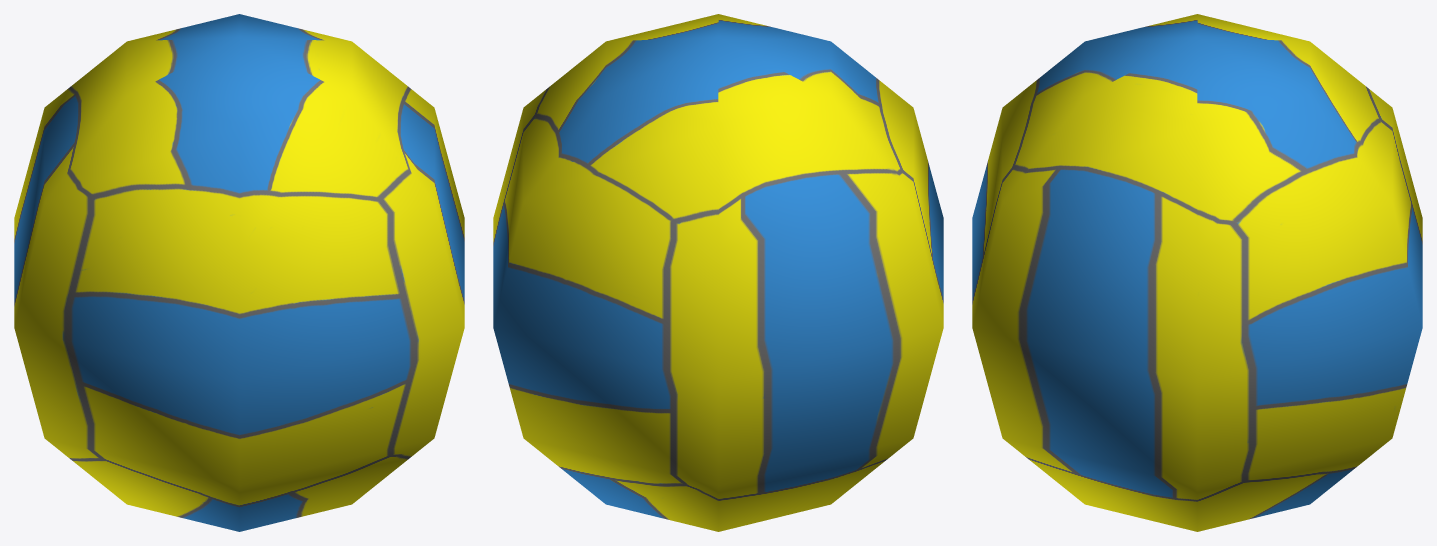
File: Volleyball.fbx
The picture shows the model from 3 angles, left to right: view 1: azimuth 30°, elevation 25°; view 2: azimuth 150°, elevation 25°; view 3: azimuth 270°, elevation 25°; orthographic projection.
Visible parts, largest first — view 1: volleyball; view 2: volleyball; view 3: volleyball.
Part boxes in pixels (x1,y1,x2,y2): volleyball: (14,14,464,531); volleyball: (493,14,943,531); volleyball: (972,14,1422,531).
Size of the model in its own units: 2 by 2 by 1.73.
